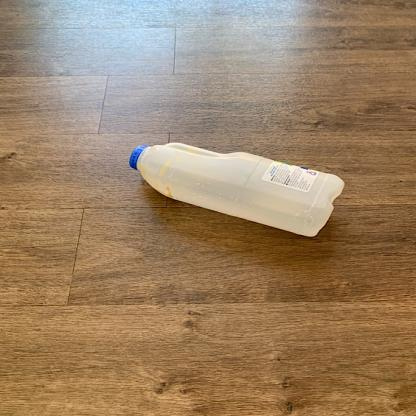trash: (126, 135, 351, 241)
